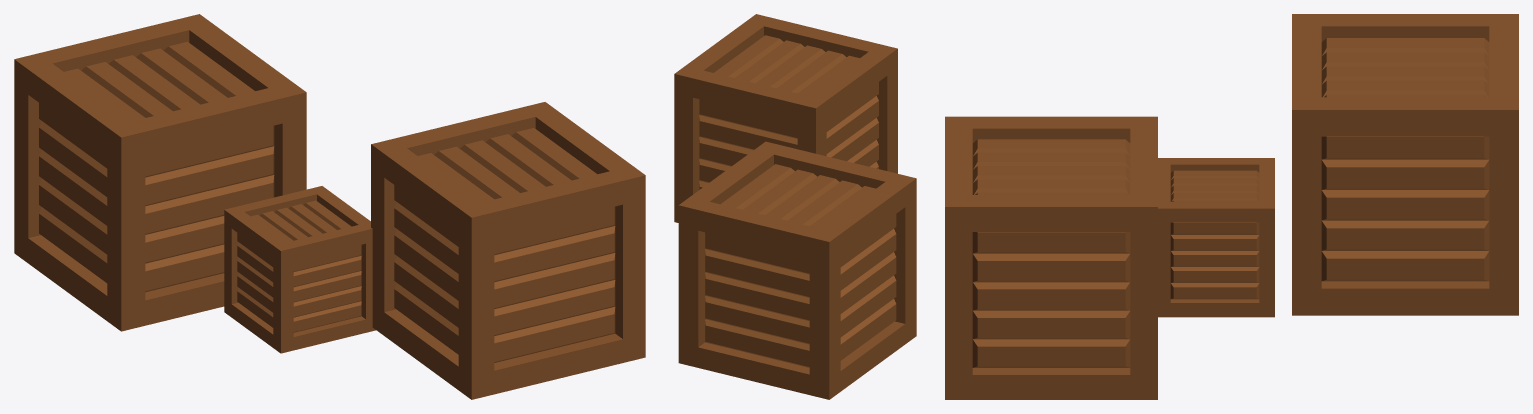
The model's file is decor8.fbx.
The picture shows the model from 3 angles, left to right: view 1: azimuth 30°, elevation 25°; view 2: azimuth 150°, elevation 25°; view 3: azimuth 270°, elevation 25°; orthographic projection. The views are drawn at different scales.
Visible parts, largest first — view 1: wooden box.043, wooden box.045, wooden box.044; view 2: wooden box.043, wooden box.045; view 3: wooden box.043, wooden box.045, wooden box.044.
Part boxes in pixels (left/top/right/bottom): wooden box.043: left=14, top=14, right=306, bottom=331; wooden box.045: left=371, top=102, right=645, bottom=399; wooden box.044: left=224, top=186, right=375, bottom=353; wooden box.043: left=678, top=141, right=916, bottom=399; wooden box.045: left=674, top=14, right=897, bottom=222; wooden box.043: left=1292, top=14, right=1518, bottom=315; wooden box.045: left=945, top=116, right=1157, bottom=399; wooden box.044: left=1158, top=158, right=1274, bottom=317.
Size of the model in its own units: 662 by 340 by 860.
